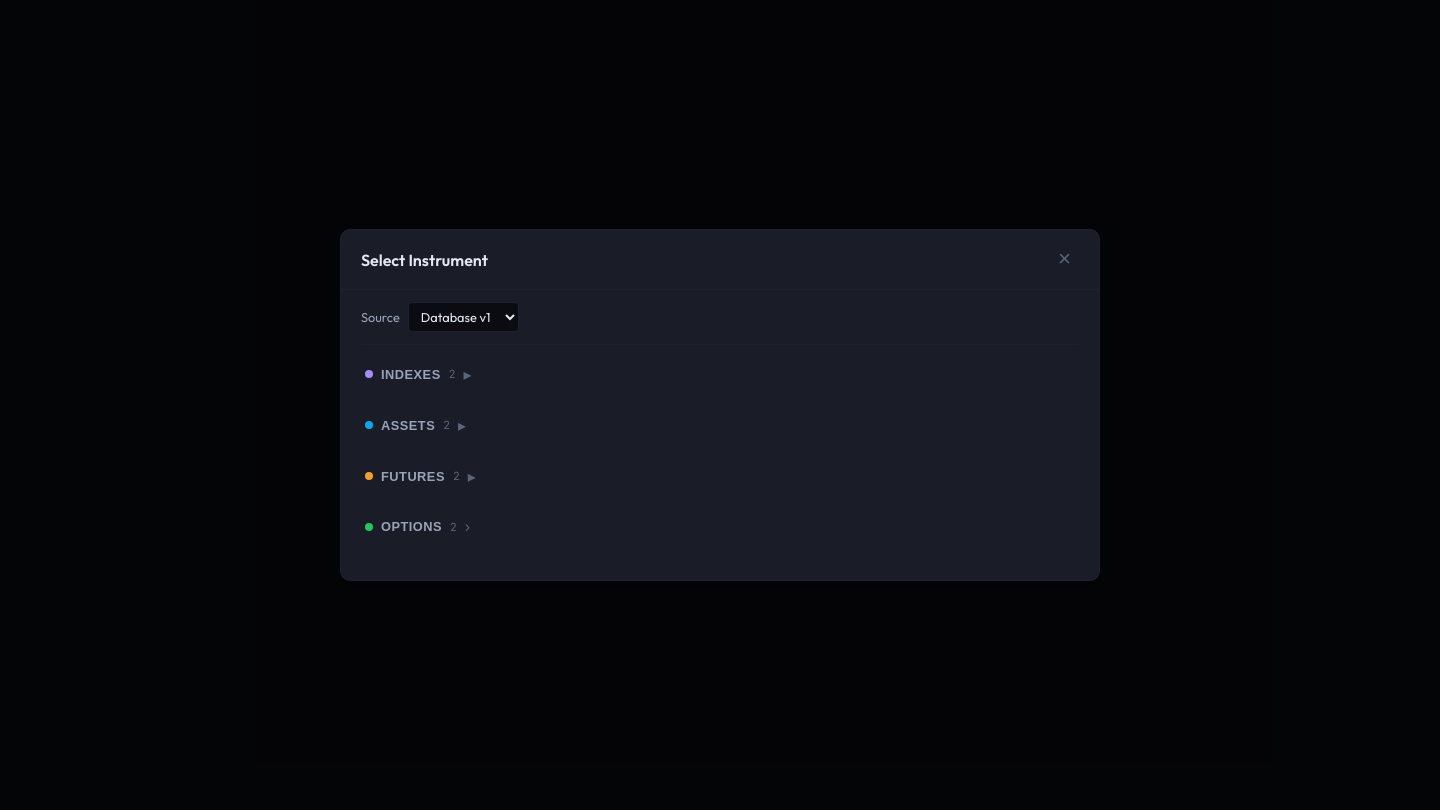
Test: <InstrumentPickerModal> source-aware catalog › v1 (default): loads the full catalog — VIX and FUT_VIX are offered
Indexes → SPX + VIX both present.
Click the text "Indexes" at (411, 374), box [381, 367, 441, 382]
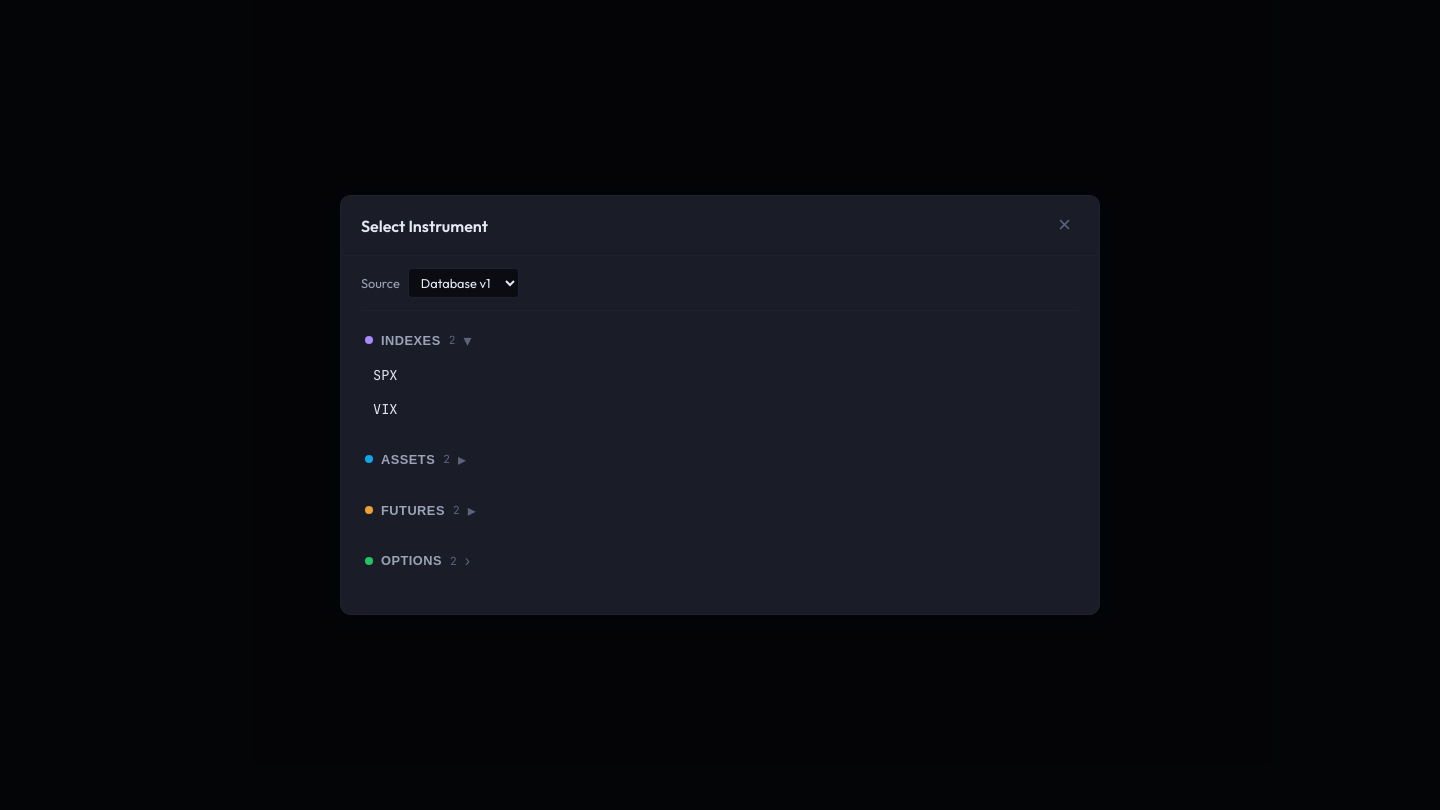
expect the text "VIX" is shown: met, box [373, 400, 398, 418]
expect the text "SPX" is shown: met, box [373, 366, 398, 384]
Futures → FUT_VIX present.
Click the text "Futures" at (413, 510), box [381, 503, 445, 518]
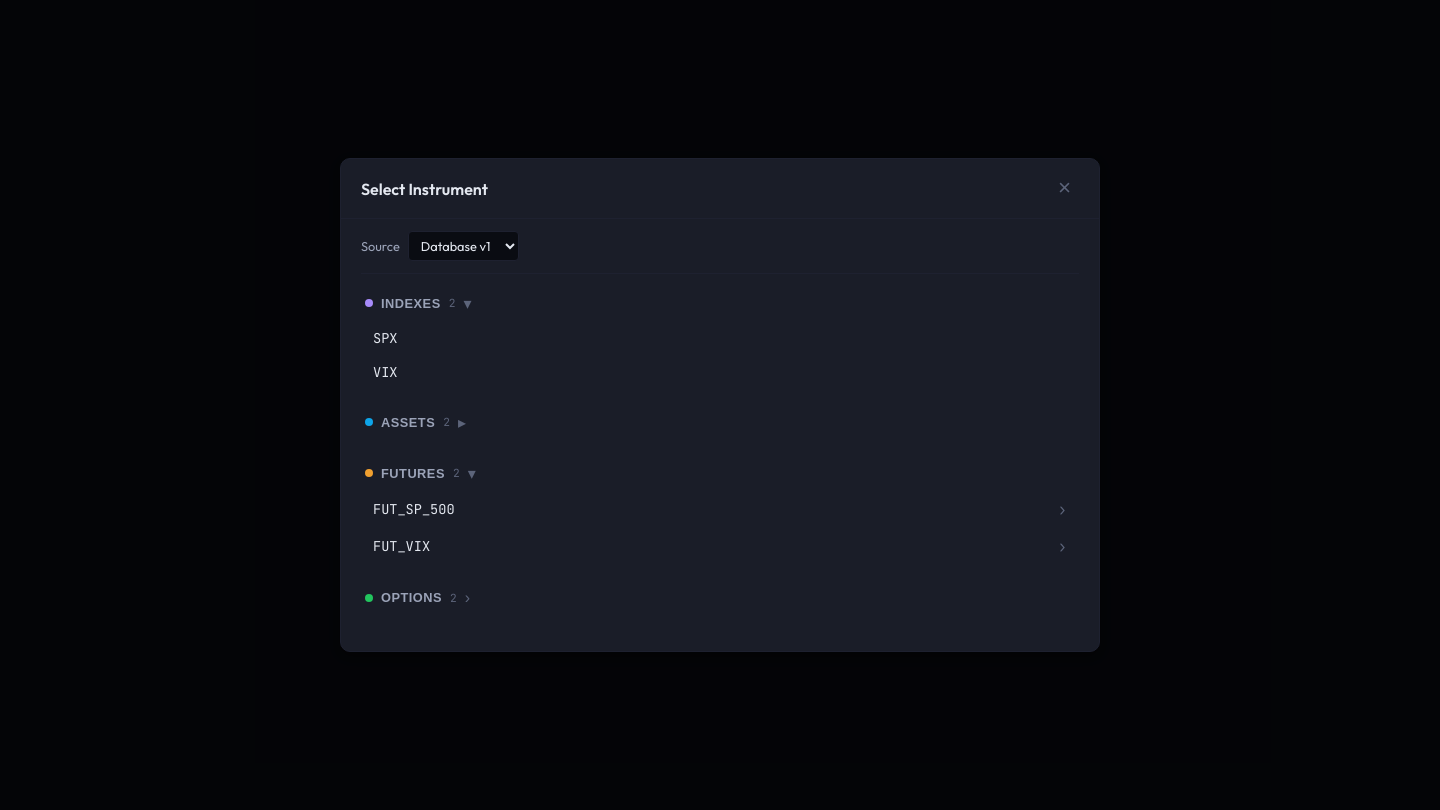
expect the text "FUT_VIX" is shown: met, box [373, 537, 430, 555]
expect the text "FUT_SP_500" is shown: met, box [373, 500, 455, 518]
